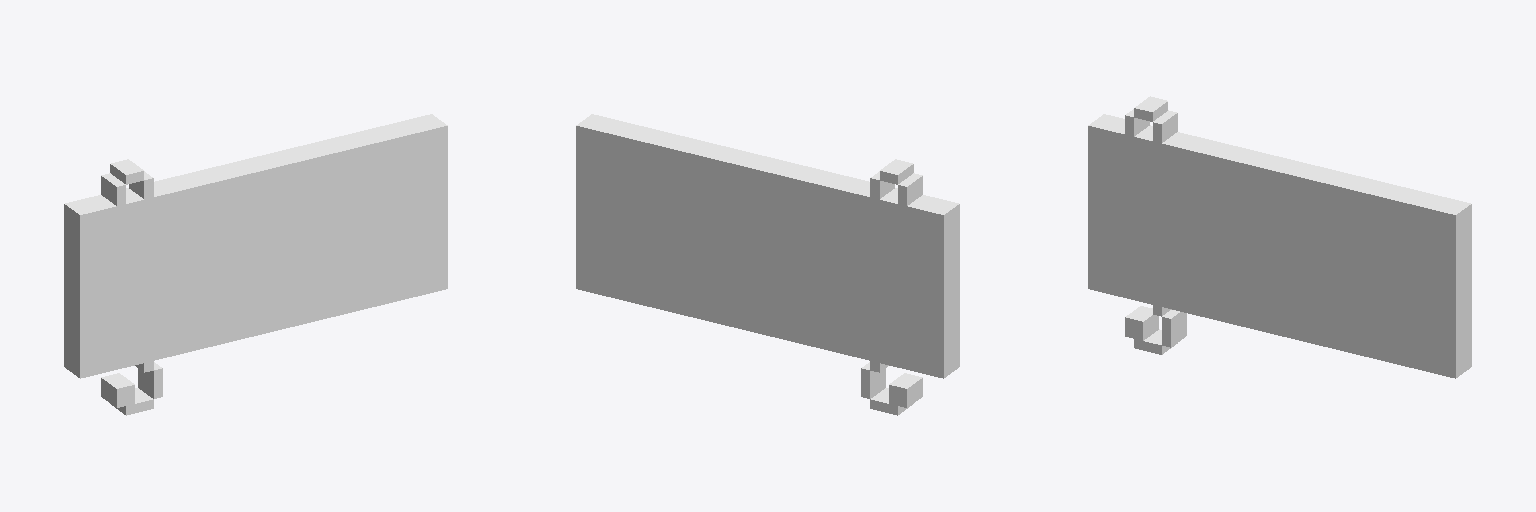
File: staffWithMeasure.obj
3 renders of one model, left to right at view 1: azimuth 30°, elevation 25°; view 2: azimuth 150°, elevation 25°; view 3: azimuth 330°, elevation 25°, orthographic.
Parts seen in each view (by area): view 1: object 1; view 2: object 1; view 3: object 1.
Part boxes in pixels (x1,y1,x2,y2): object 1: (64, 114, 447, 415); object 1: (576, 114, 959, 415); object 1: (1088, 96, 1471, 378).
Bounding box in the file's own units: 4 × 2.5 × 0.3.